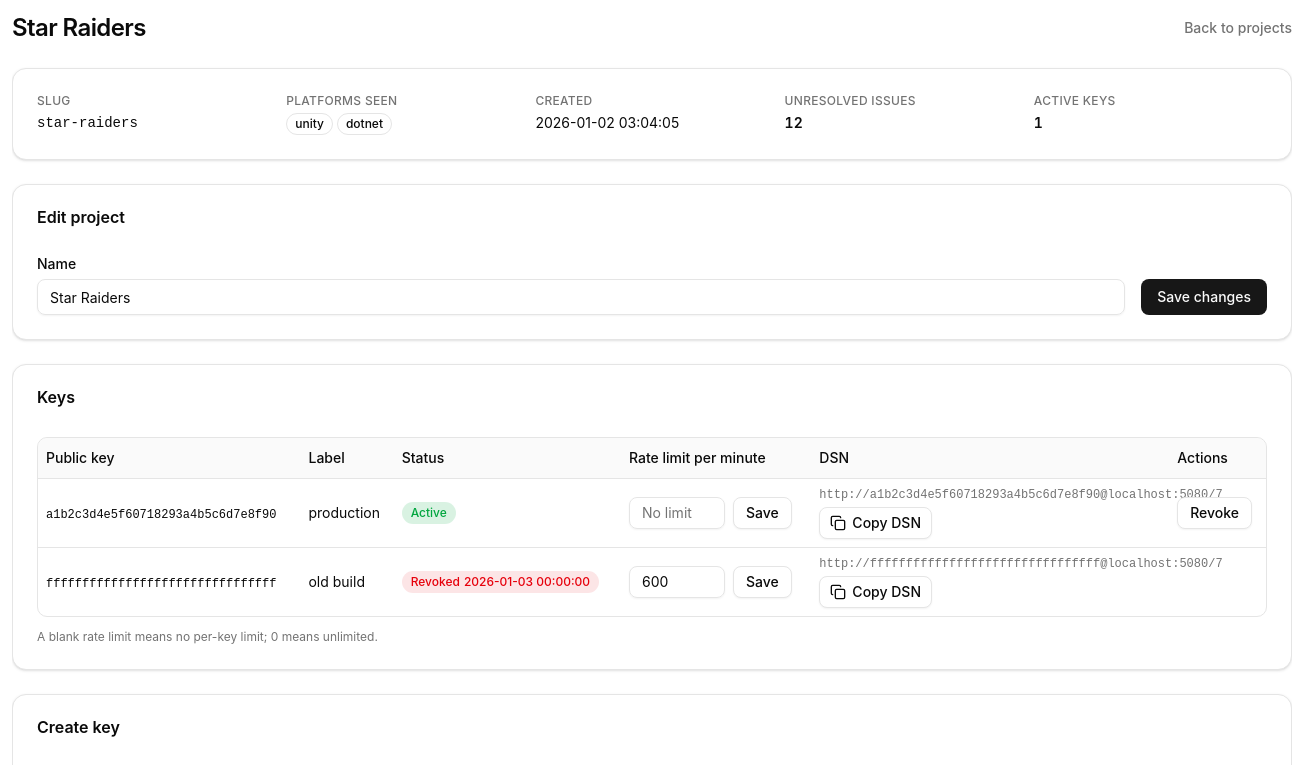
ProjectDetailPage › shows the API error text when an update is rejected with 400
This screenshot has width=1304, height=765.
Expected: the heading "Star Raiders" is shown, [12, 12, 146, 44]
Replace the text in the field labelled "Name" with "Renamed" at x=581, y=297, box [37, 279, 1125, 315]
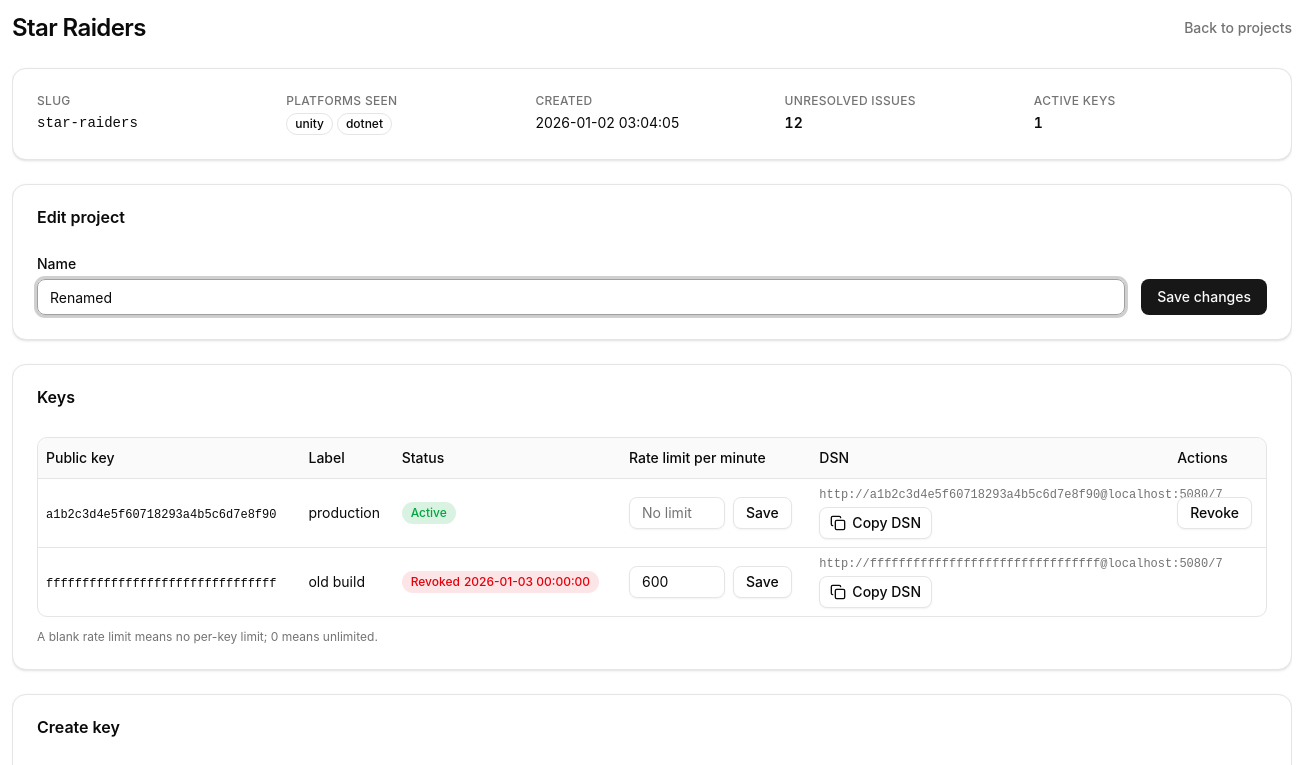
Click the button "Save changes" at x=1204, y=297, box [1141, 279, 1267, 315]
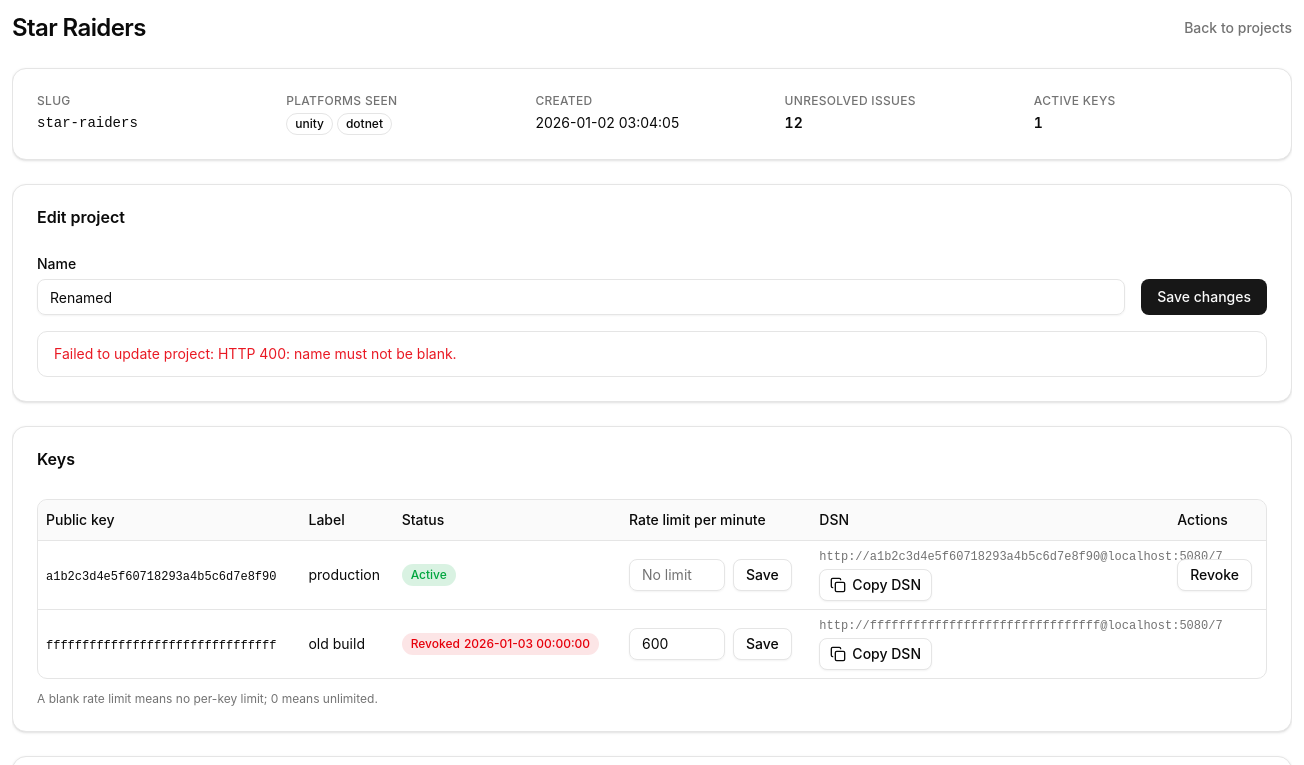
Result: the text "Failed to update project: HTTP 400: name must not be blank." is shown at [54, 345, 457, 362]
